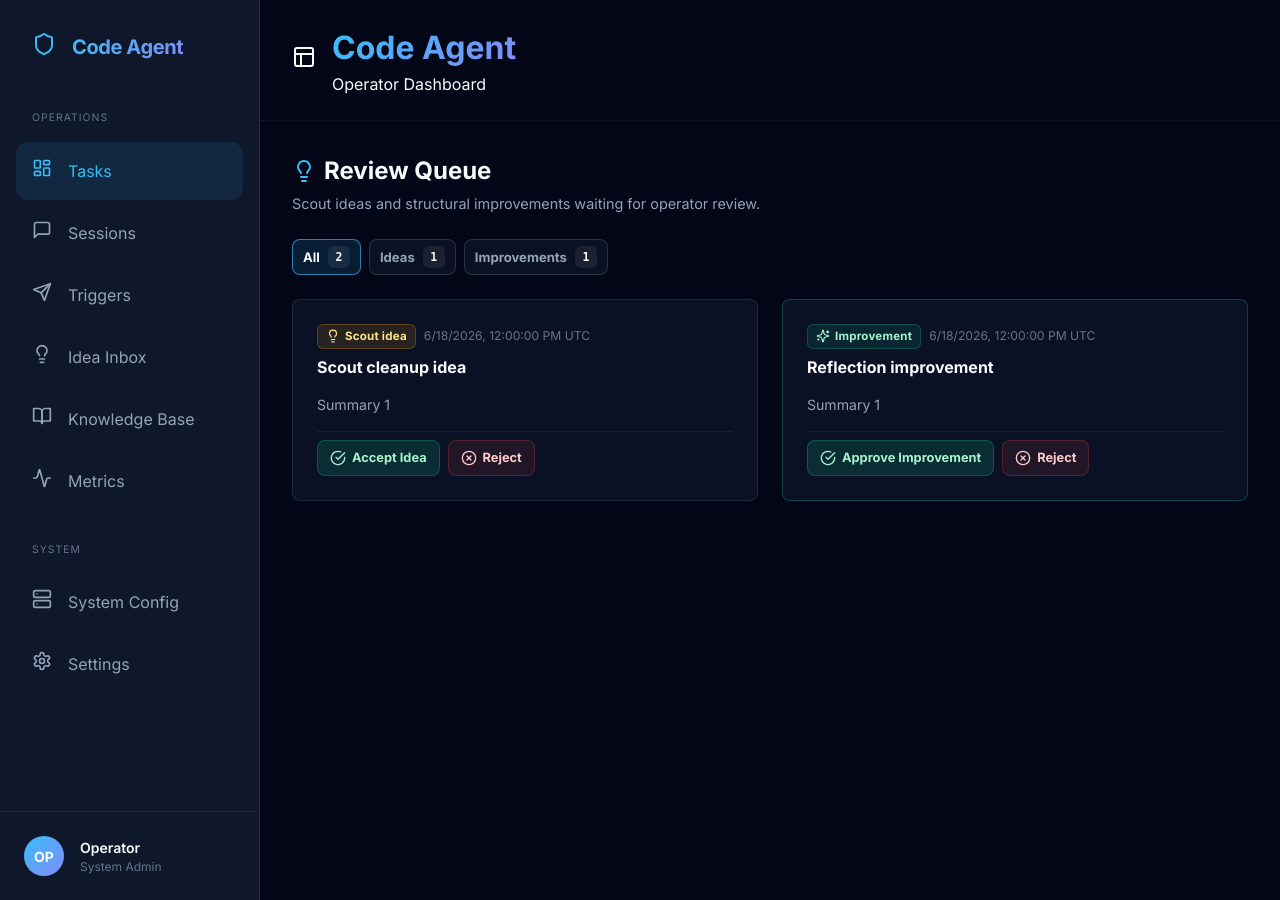
Test: IdeaInboxPage › filters mixed proposals by proposal type without refetching
Expected: the heading "Scout cleanup idea" is shown, top-left (317, 357), bottom-right (466, 377)
Expected: the heading "Reflection improvement" is shown, top-left (807, 357), bottom-right (994, 377)
Step 1. Click the button with aria-label "Show improvements proposals" → (536, 257), box top-left (464, 239), bottom-right (608, 275)
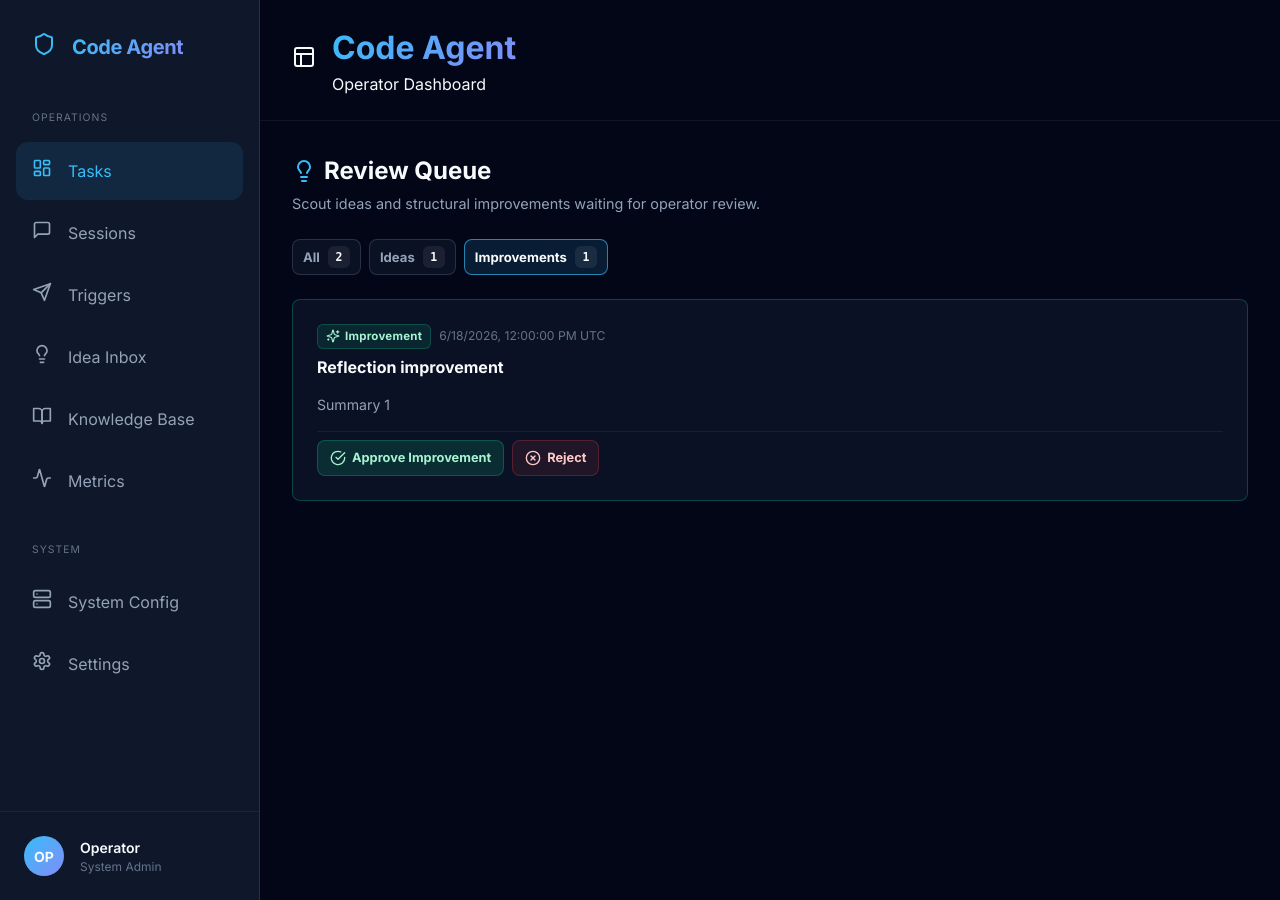
Expected: the heading "Reflection improvement" is shown, top-left (317, 357), bottom-right (504, 377)
Result: the heading "Scout cleanup idea" is gone
Step 2. Click the button with aria-label "Show ideas proposals" → (412, 257), box top-left (369, 239), bottom-right (456, 275)
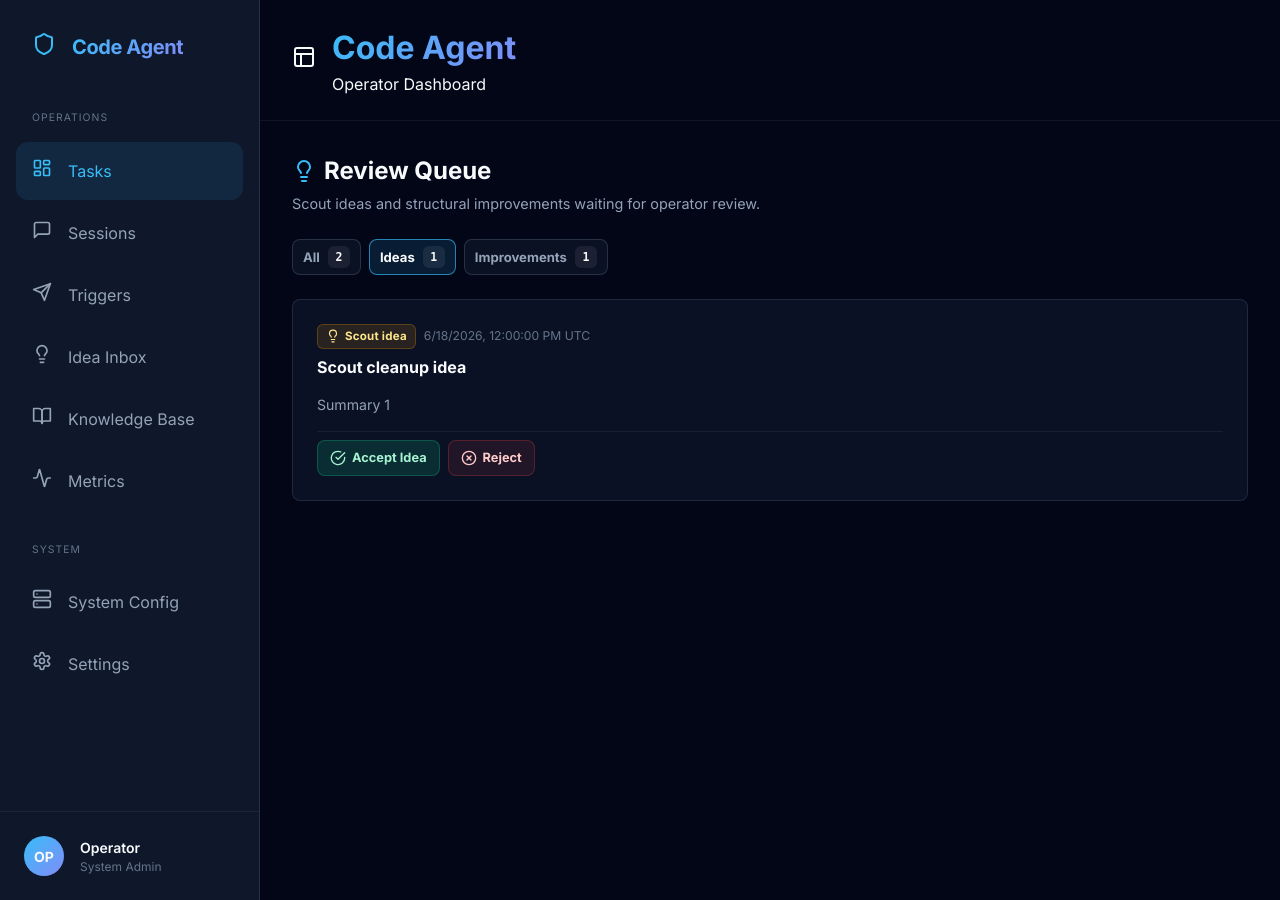
Result: the heading "Scout cleanup idea" is shown at top-left (317, 357), bottom-right (466, 377)
Result: the heading "Reflection improvement" is gone
